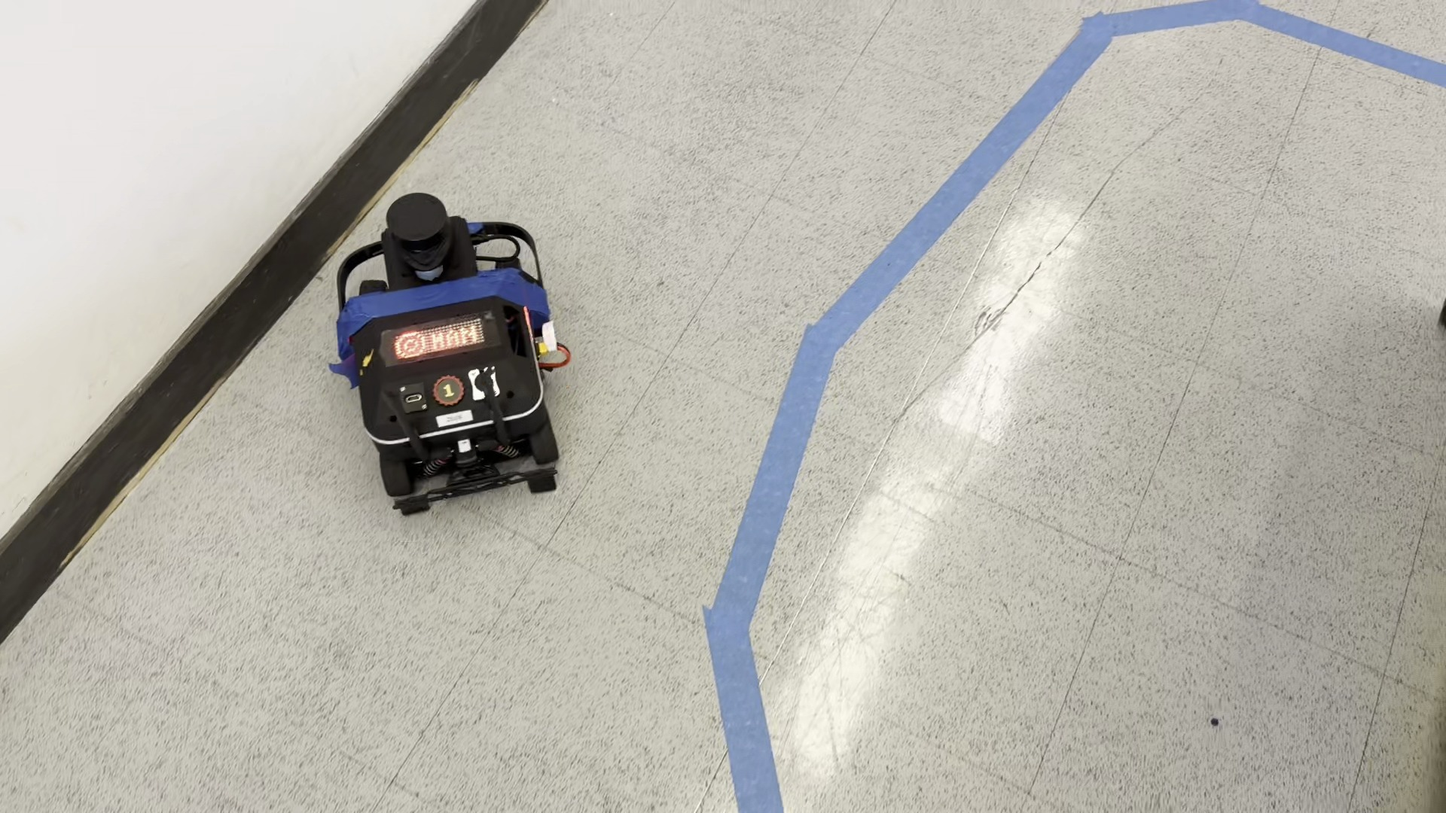racecar: (326, 192, 574, 513)
